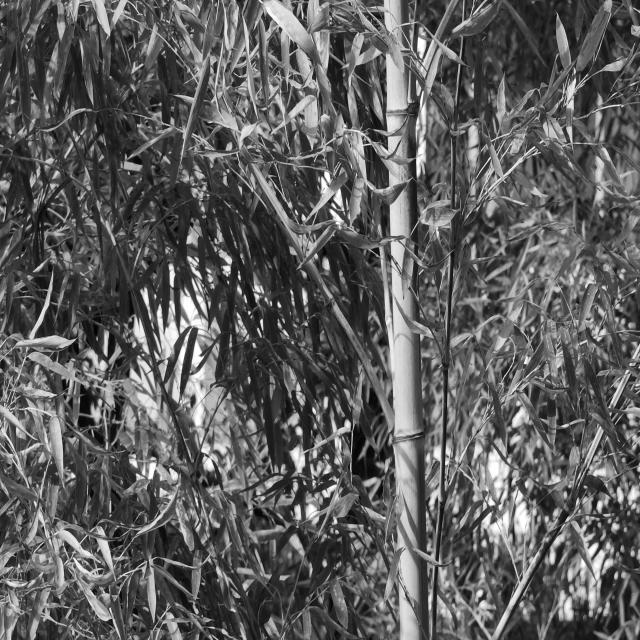Bamboo-shoots: (384, 0, 429, 640)
